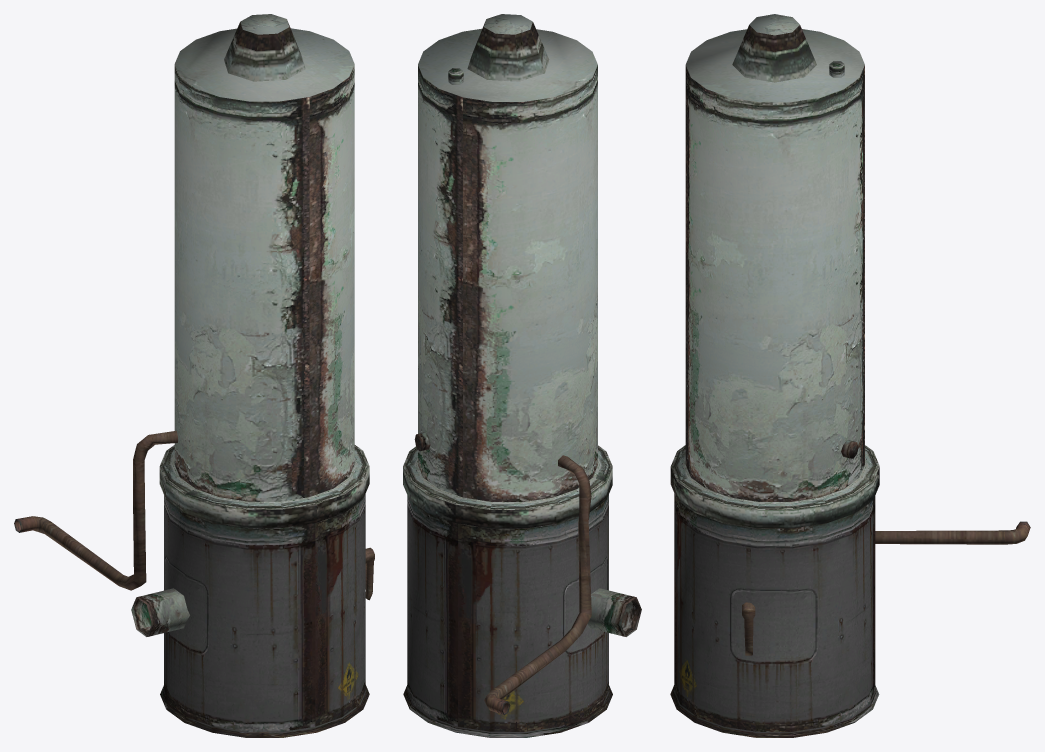
File: water_heater.obj
3 renders of one model, left to right at view 1: azimuth 30°, elevation 25°; view 2: azimuth 150°, elevation 25°; view 3: azimuth 270°, elevation 25°, orthographic.
Parts seen in each view (by area): view 1: Model001_4_boiler_1_0_0; view 2: Model001_4_boiler_1_0_0; view 3: Model001_4_boiler_1_0_0.
Part boxes in pixels (bbox=[...]): Model001_4_boiler_1_0_0: bbox=[14, 14, 374, 737]; Model001_4_boiler_1_0_0: bbox=[403, 14, 641, 737]; Model001_4_boiler_1_0_0: bbox=[670, 14, 1030, 737].
Size of the model in its own units: 0.7764 by 2.29 by 1.12.
